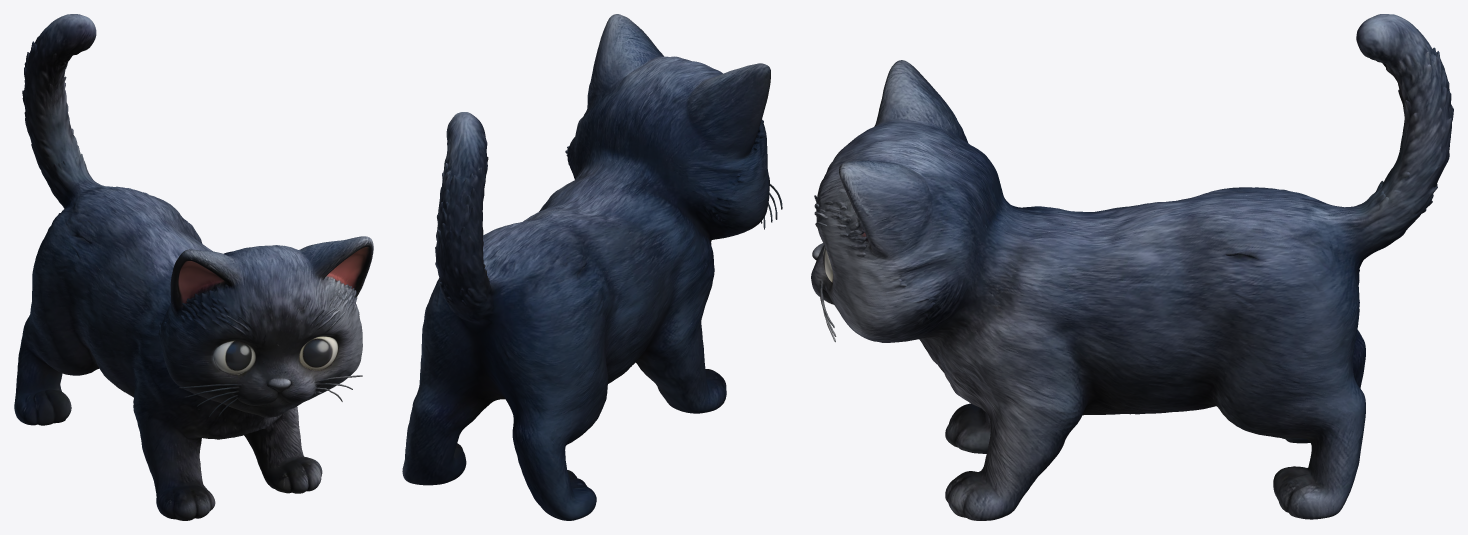
File: black-cat.glb
The picture shows the model from 3 angles, left to right: view 1: azimuth 30°, elevation 25°; view 2: azimuth 150°, elevation 25°; view 3: azimuth 270°, elevation 25°; orthographic projection. The views are drawn at different scales.
Visible parts, largest first — view 1: tripo_node_55501e0a-0ab7-4c6e-82f2-7f5145c0ea10; view 2: tripo_node_55501e0a-0ab7-4c6e-82f2-7f5145c0ea10; view 3: tripo_node_55501e0a-0ab7-4c6e-82f2-7f5145c0ea10.
Boxes of the visible parts, left/top/right/bottom form: tripo_node_55501e0a-0ab7-4c6e-82f2-7f5145c0ea10: left=14, top=14, right=373, bottom=520; tripo_node_55501e0a-0ab7-4c6e-82f2-7f5145c0ea10: left=402, top=14, right=782, bottom=520; tripo_node_55501e0a-0ab7-4c6e-82f2-7f5145c0ea10: left=811, top=14, right=1453, bottom=520.
Size of the model in its own units: 0.4088 by 0.7916 by 1.
1 material, 1 textured.
